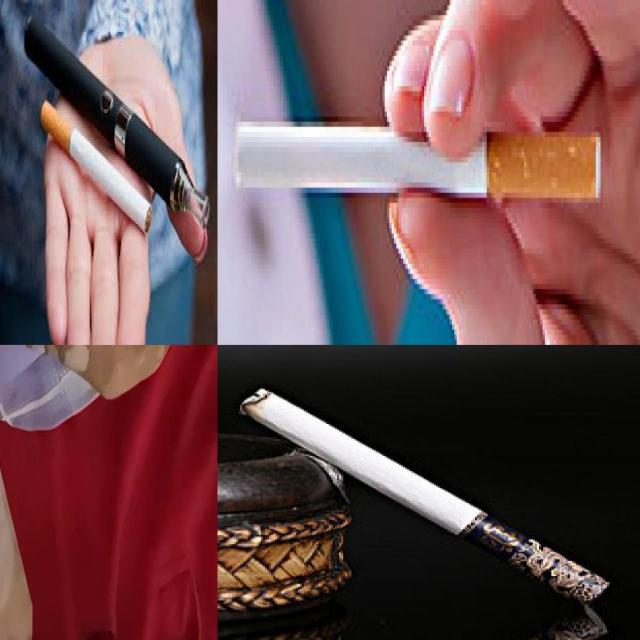cigarette: (235, 386, 610, 608), (232, 116, 598, 193), (41, 100, 152, 234)
